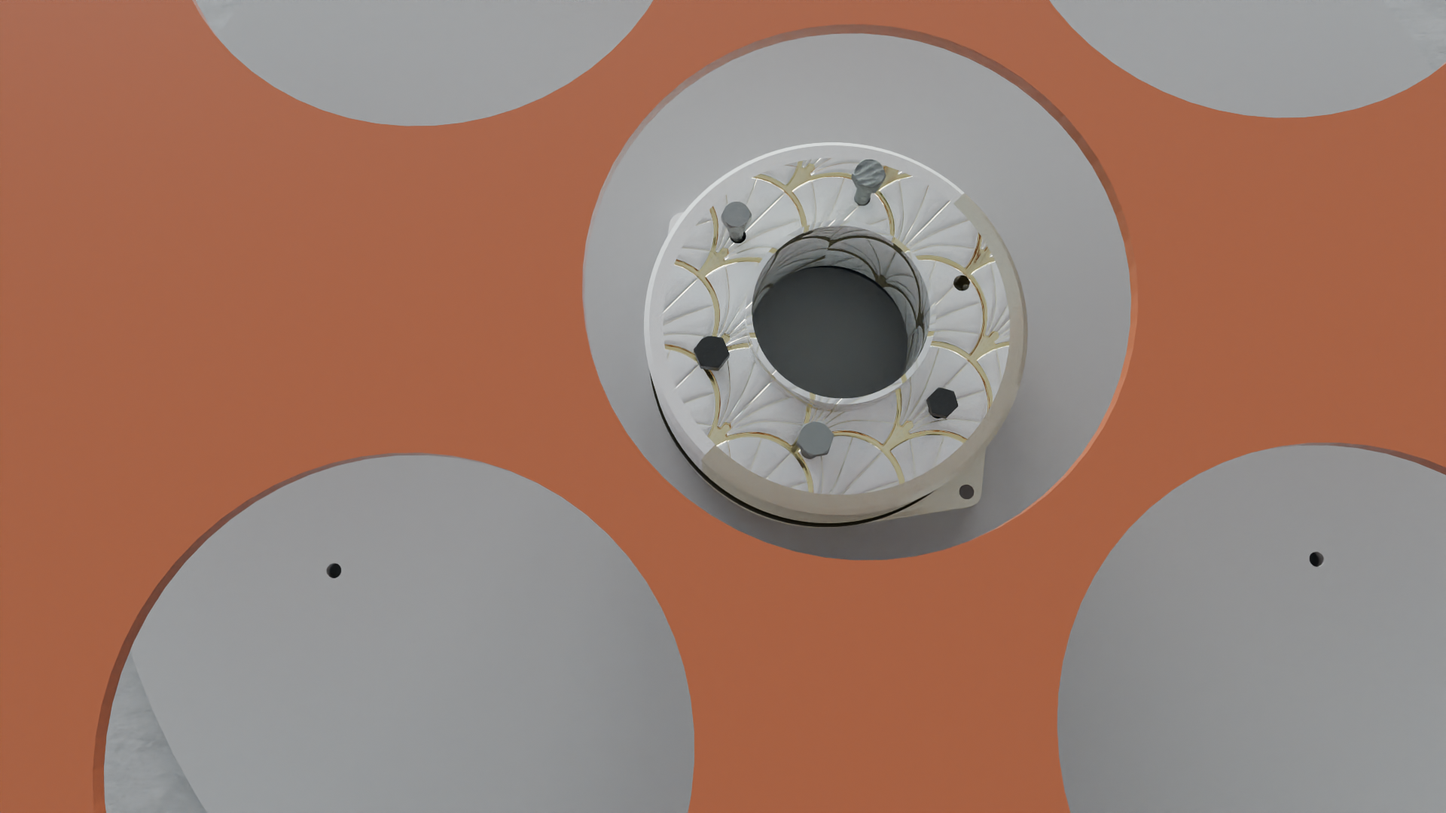bolt: (797, 421, 834, 456), (694, 336, 730, 368), (853, 159, 886, 189), (928, 387, 959, 417), (721, 202, 752, 229)
